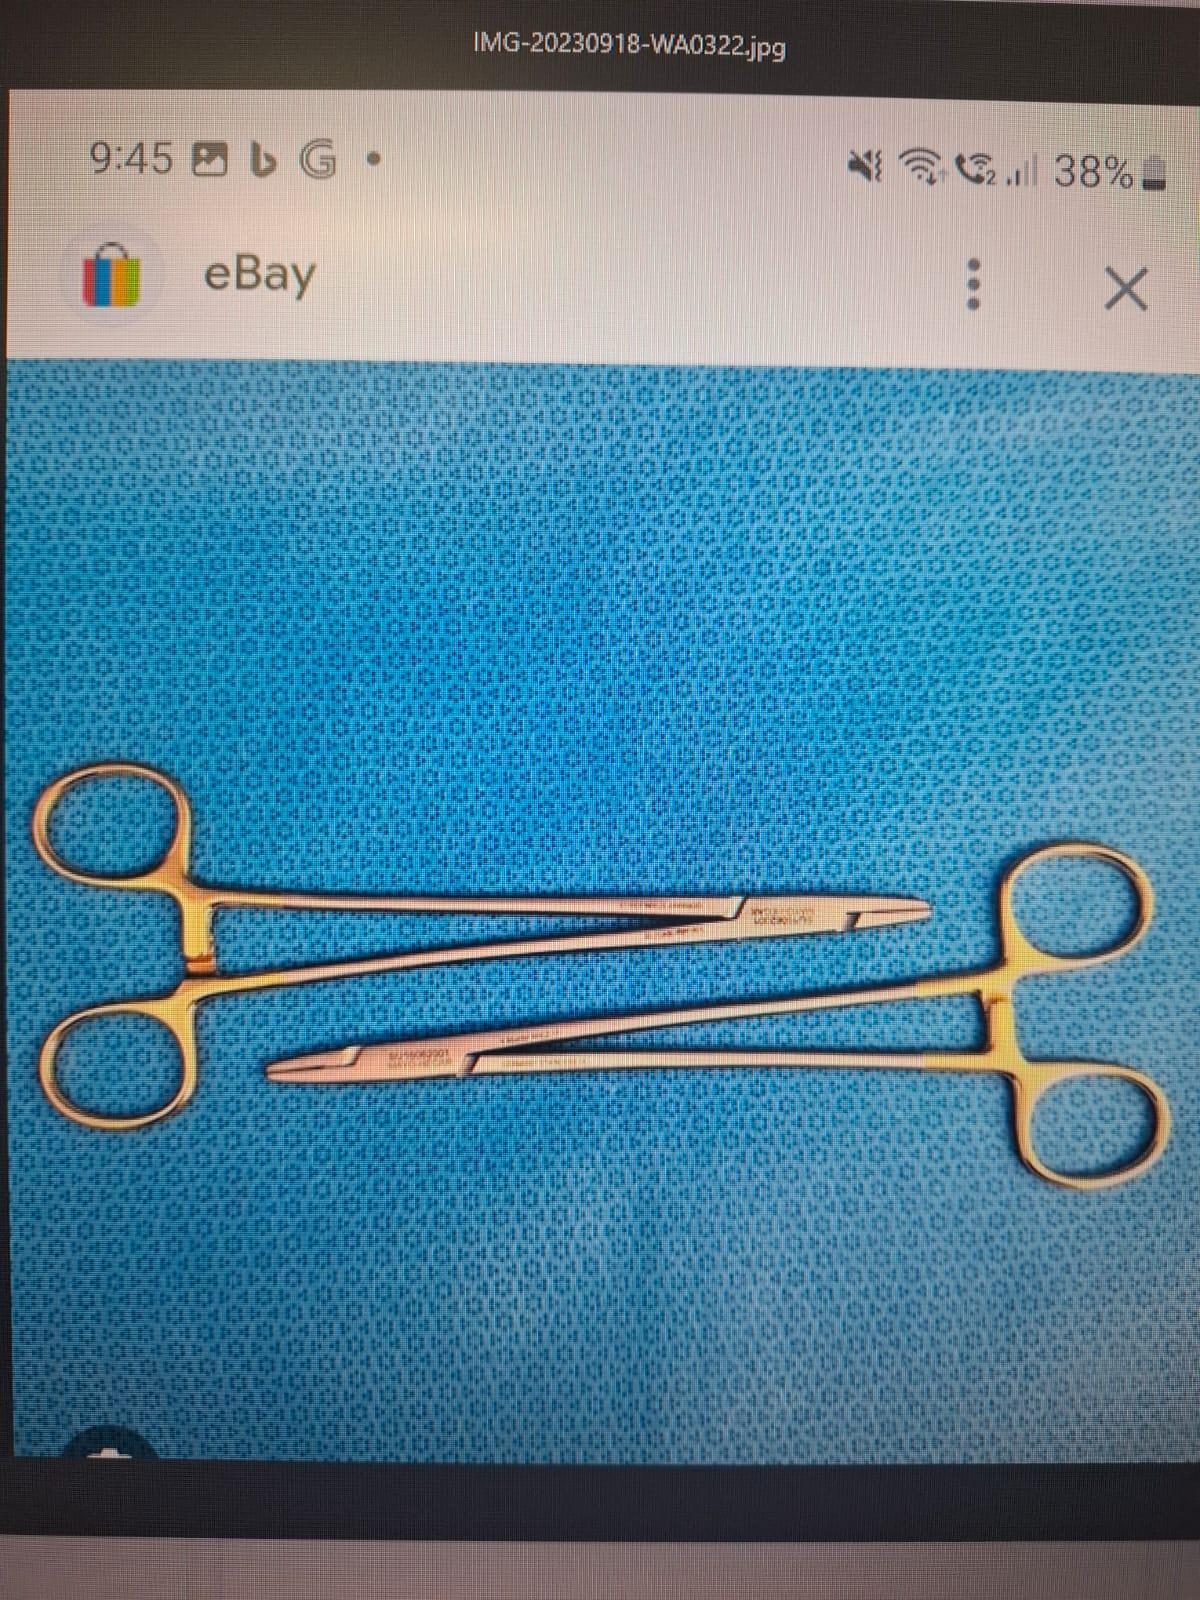Needle Holder: (18, 734, 945, 1123), (245, 833, 1187, 1202)
